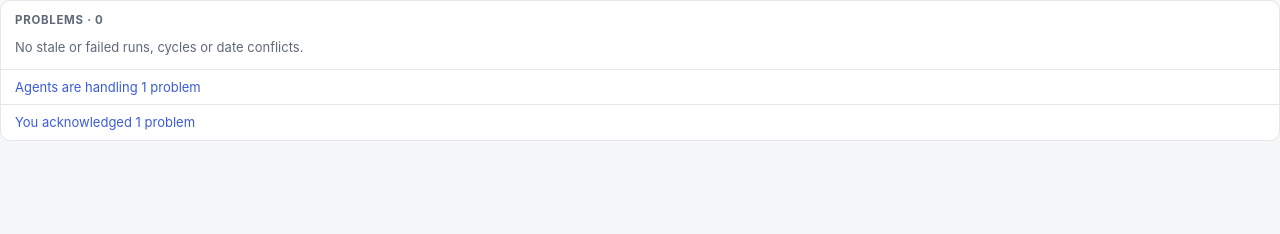
it: the Problems rows (decision 37) › "Agents are handling N problems" opens the rows agents are handling
Click the button "Agents are handling 1 problem" at (108, 87), box [15,78,201,96]
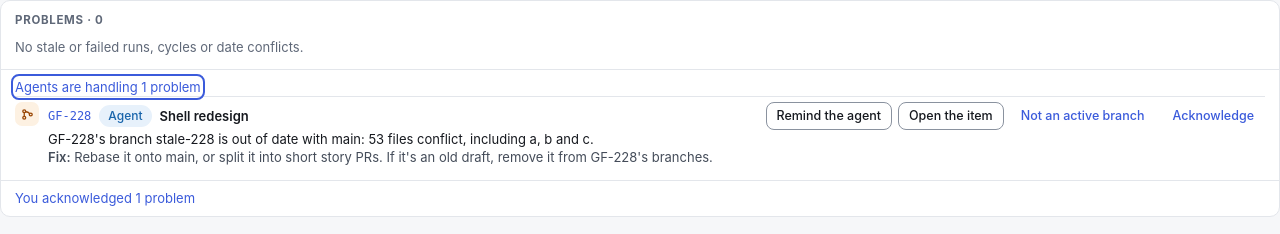
Check: the button "You acknowledged 1 problem" is shown, box [15,189,195,208]
Check: the button "Agents are handling 1 problem" is expanded, box [15,78,201,96]
Check: the element that starts with "GF-228" is shown, box [15,96,1265,172]
